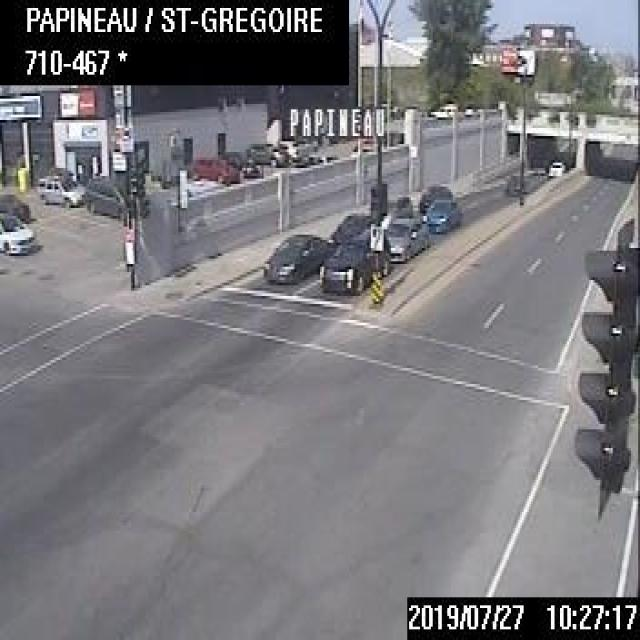vehicle: (316, 236, 388, 296), (258, 230, 329, 285), (381, 212, 432, 256), (85, 172, 126, 218), (0, 208, 38, 256), (35, 172, 85, 207), (187, 154, 240, 184), (423, 196, 463, 233), (325, 211, 368, 239), (219, 148, 261, 176), (418, 180, 452, 212), (244, 139, 280, 168), (276, 137, 303, 160), (384, 192, 410, 215), (547, 158, 565, 174)
